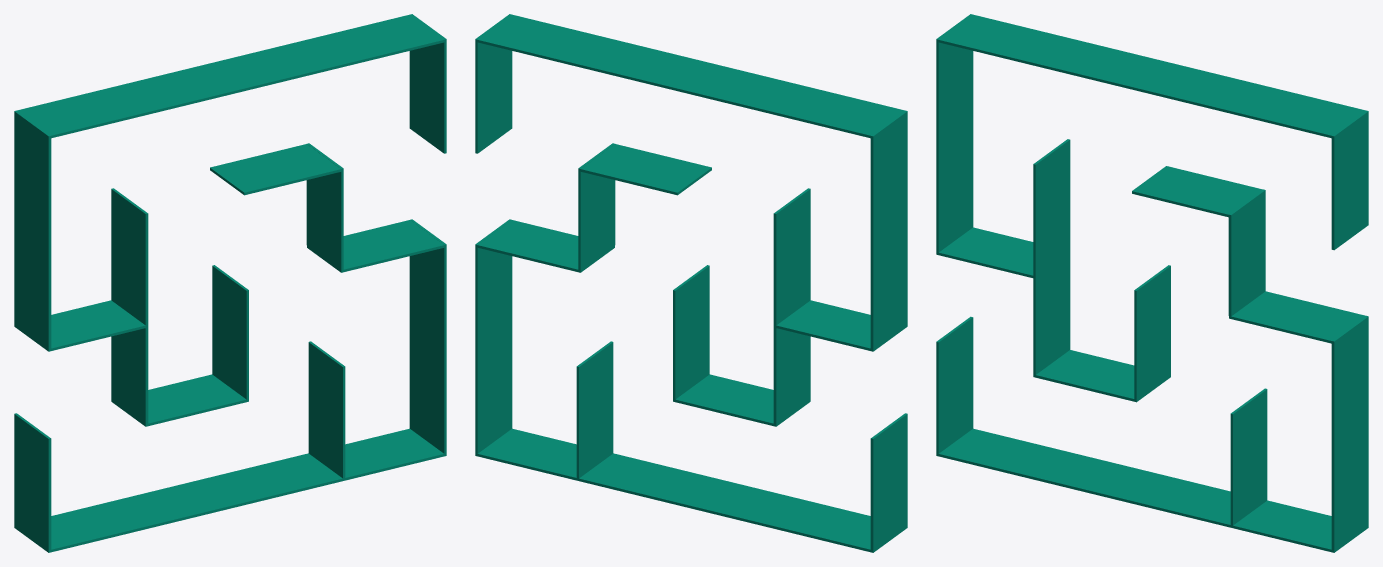
Rendered from PB_Level-03.fbx.
The picture shows the model from 3 angles, left to right: view 1: azimuth 30°, elevation 25°; view 2: azimuth 150°, elevation 25°; view 3: azimuth 330°, elevation 25°; orthographic projection.
Parts seen in each view (by area): view 1: Level 3 Shape; view 2: Level 3 Shape; view 3: Level 3 Shape.
Boxes of the visible parts, x1,y1,x2,y2 form: Level 3 Shape: (14,14,446,552); Level 3 Shape: (475,14,907,552); Level 3 Shape: (936,14,1368,552).
Bounding box in the file's own units: 8000 × 8000 × 1200.
